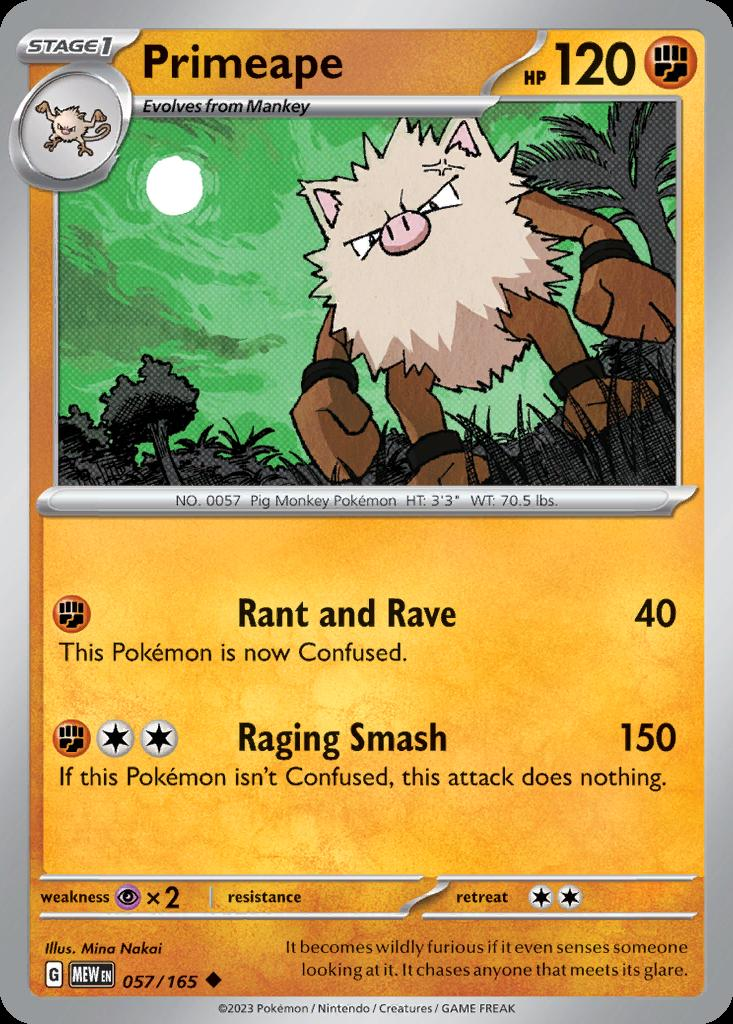card: (5, 2, 733, 1024)
hp: (504, 26, 701, 93)
name: (136, 26, 366, 90)
set num: (119, 961, 230, 996)
set symbol: (36, 957, 117, 993)
